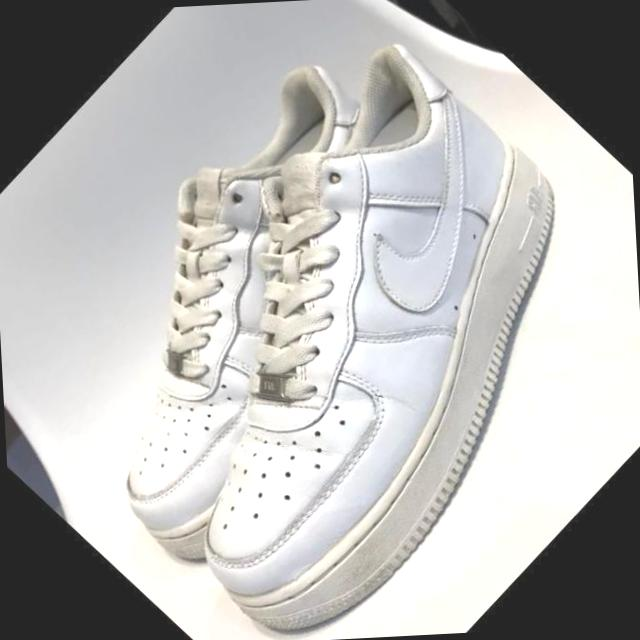nike_original_airforce: (16, 19, 640, 640), (0, 36, 520, 586)
